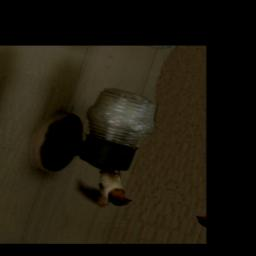Swallow: (70, 161, 141, 215)
